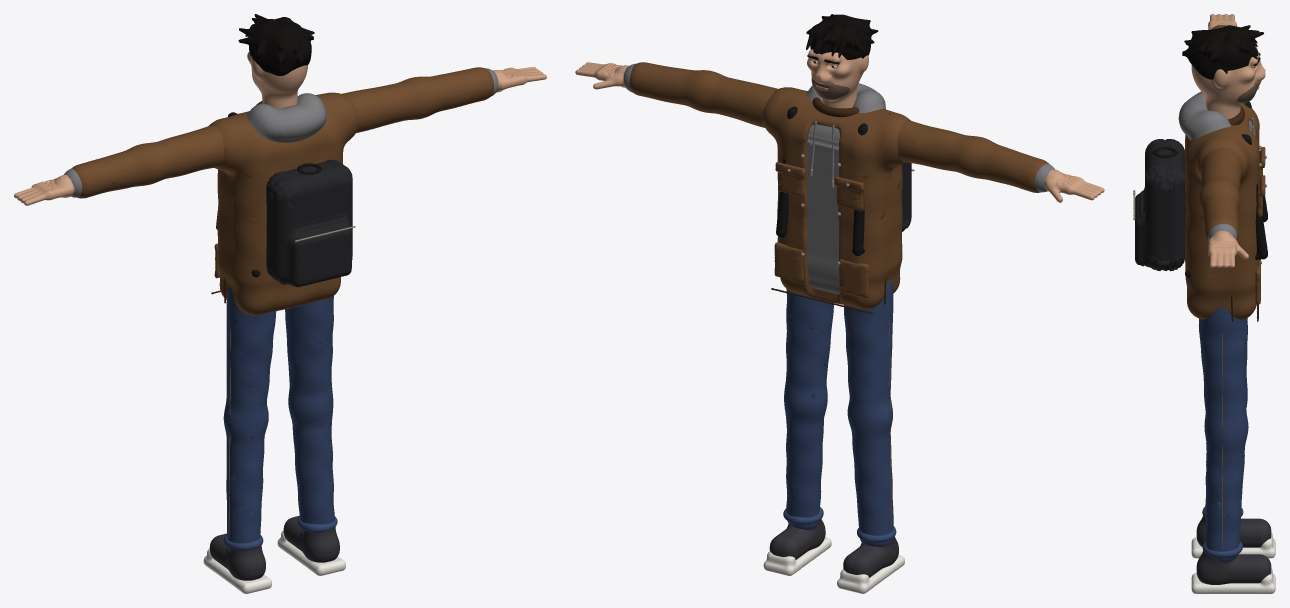
File: eli_tpose.obj
The picture shows the model from 3 angles, left to right: view 1: azimuth 30°, elevation 25°; view 2: azimuth 150°, elevation 25°; view 3: azimuth 270°, elevation 25°; orthographic projection.
Visible parts, largest first — view 1: jacket, jeans, pack, skin, hair, hoodie, sneaker, sole; view 2: jacket, jeans, hoodie, skin, sneaker, hair, sole, straps; view 3: jacket, jeans, pack, skin, sneaker, hair, hoodie, sole, straps, stubble.
Boxes of the visible parts, box(x1,y1,x2,y2) form: jacket: box(71, 67, 493, 315); jeans: box(223, 287, 337, 551); pack: box(266, 159, 352, 287); skin: box(14, 51, 546, 205); hair: box(238, 14, 314, 75); hoodie: box(64, 68, 498, 197); sneaker: box(209, 516, 339, 580); sole: box(203, 530, 345, 593); jacket: box(629, 62, 1048, 309); jeans: box(783, 280, 896, 546); hoodie: box(623, 63, 1054, 294); skin: box(575, 49, 1104, 202); sneaker: box(769, 519, 898, 577); hair: box(806, 14, 878, 64); sole: box(763, 537, 904, 593); straps: box(776, 106, 867, 256); jacket: box(1184, 25, 1265, 319); jeans: box(1198, 306, 1248, 562); pack: box(1135, 139, 1185, 271); skin: box(1191, 14, 1265, 267); sneaker: box(1196, 516, 1271, 584); hair: box(1182, 25, 1263, 79); hoodie: box(1178, 24, 1255, 240); sole: box(1191, 532, 1275, 593); straps: box(1153, 101, 1267, 277); stubble: box(1237, 81, 1261, 103).
Size of the model in its own units: 1.77 by 1.77 by 0.423.
